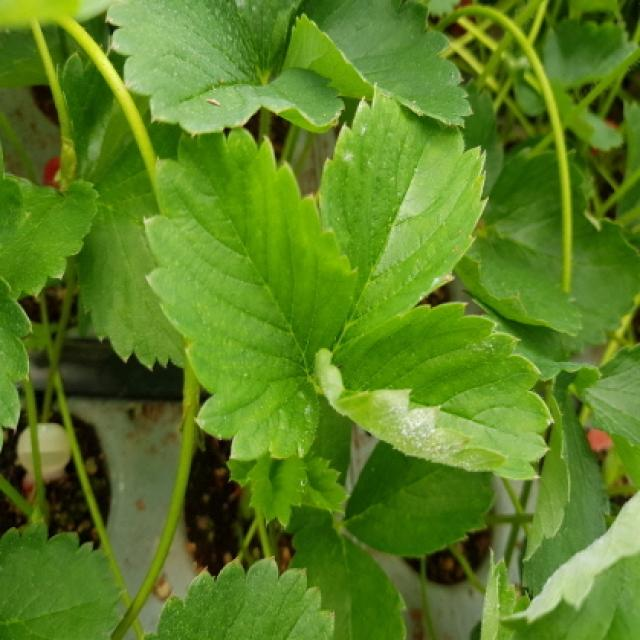Powdery Mildew Leaf: (318, 80, 491, 355), (312, 303, 556, 480), (498, 490, 638, 638)
